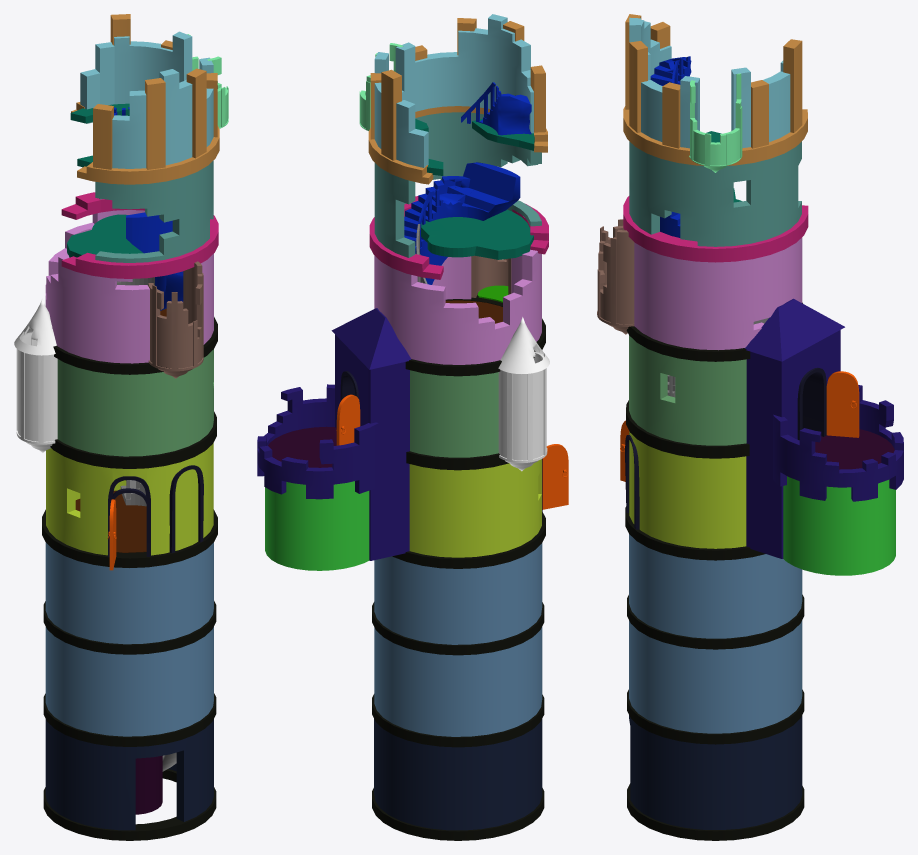
File: tower_.fbx
The picture shows the model from 3 angles, left to right: view 1: azimuth 30°, elevation 25°; view 2: azimuth 150°, elevation 25°; view 3: azimuth 270°, elevation 25°; orthographic projection. The views are drawn at different scales.
Parts seen in each view (by area): view 1: Cylinder044, Cylinder051, Cylinder002, Cylinder045, Cylinder001, Cylinder005, Cylinder003, Cylinder009, Cylinder004, Cylinder015, Cylinder011, Object003 (+18 smaller); view 2: Cylinder045, Cylinder044, Cylinder051, Cylinder003, Cylinder001, Cylinder005, Box002, Cylinder018, Cylinder021, Stairs013, Cylinder002, Cylinder004 (+18 smaller); view 3: Cylinder045, Cylinder044, Cylinder003, Cylinder051, Cylinder004, Cylinder001, Cylinder002, Box002, Cylinder018, Cylinder009, Cylinder021, Cylinder005 (+16 smaller).
Part boxes in pixels (bbox=[...]): Cylinder044: bbox=[45, 627, 213, 736]; Cylinder051: bbox=[45, 542, 213, 644]; Cylinder002: bbox=[57, 349, 213, 456]; Cylinder045: bbox=[45, 719, 213, 830]; Cylinder001: bbox=[46, 443, 213, 555]; Cylinder005: bbox=[80, 31, 213, 168]; Cylinder003: bbox=[45, 210, 213, 363]; Cylinder009: bbox=[71, 14, 219, 184]; Cylinder004: bbox=[86, 121, 213, 262]; Cylinder015: bbox=[16, 332, 57, 452]; Cylinder011: bbox=[61, 192, 218, 278]; Object003: bbox=[148, 261, 202, 368]; Cylinder045: bbox=[374, 719, 542, 830]; Cylinder044: bbox=[374, 627, 542, 736]; Cylinder051: bbox=[374, 543, 542, 644]; Cylinder003: bbox=[374, 249, 541, 364]; Cylinder001: bbox=[409, 459, 541, 557]; Cylinder005: bbox=[374, 14, 533, 167]; Box002: bbox=[335, 334, 409, 560]; Cylinder018: bbox=[265, 481, 369, 570]; Cylinder021: bbox=[257, 384, 378, 499]; Stairs013: bbox=[404, 82, 531, 284]; Cylinder002: bbox=[410, 370, 498, 457]; Cylinder004: bbox=[374, 112, 541, 257]; Cylinder045: bbox=[629, 715, 802, 829]; Cylinder044: bbox=[629, 620, 802, 733]; Cylinder003: bbox=[634, 237, 802, 350]; Cylinder051: bbox=[629, 534, 802, 638]; Cylinder004: bbox=[629, 141, 801, 246]; Cylinder001: bbox=[629, 431, 746, 548]; Cylinder002: bbox=[629, 335, 746, 445]; Box002: bbox=[746, 330, 840, 558]; Cylinder018: bbox=[783, 476, 895, 575]; Cylinder009: bbox=[623, 14, 807, 165]; Cylinder021: bbox=[773, 385, 903, 501]; Cylinder005: bbox=[629, 17, 790, 148].
Bounding box in the file's own units: 1067 × 3358 × 1195.
